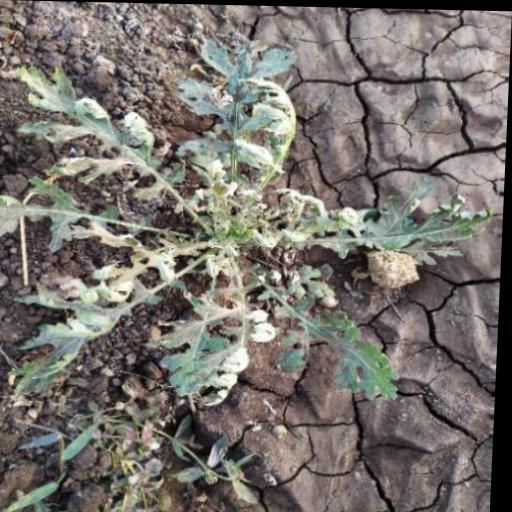weed: (0, 34, 479, 425)
